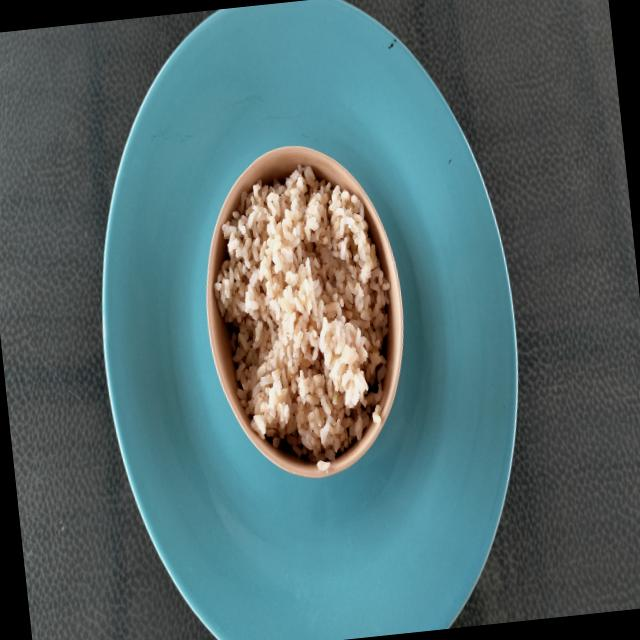brown-rice: (214, 165, 389, 462)
